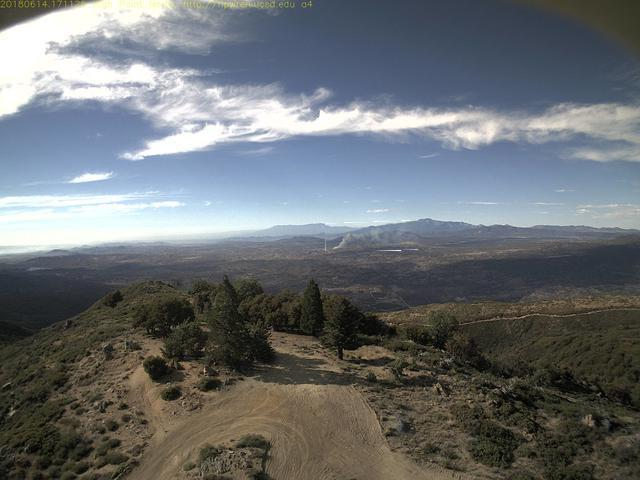smoke: (326, 222, 420, 253)
